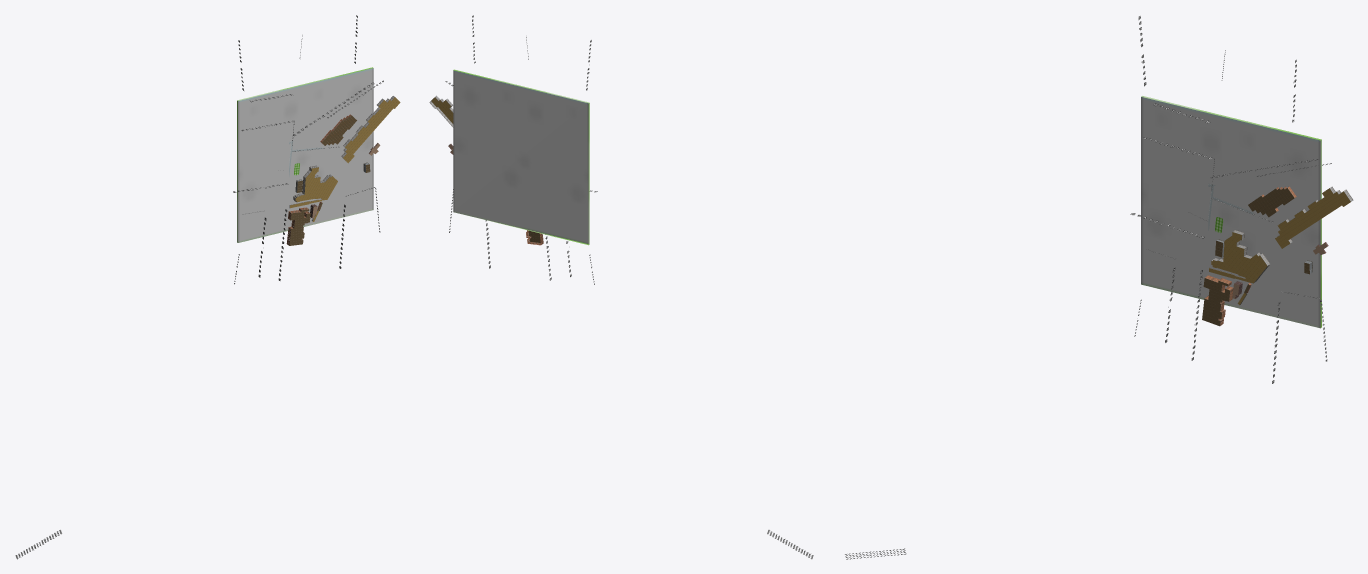
3 views of the same model, side by side, from view 1: azimuth 30°, elevation 25°; view 2: azimuth 150°, elevation 25°; view 3: azimuth 330°, elevation 25° (orthographic). The views are drawn at different scales.
Parts seen in each view (by area): view 1: POLYGON, BUILDING, FONT; view 2: POLYGON, BUILDING, FONT; view 3: POLYGON, BUILDING, FONT.
Boxes of the visible parts, x1,y1,x2,y2 form: POLYGON: (237, 67, 373, 242); BUILDING: (286, 96, 400, 245); FONT: (15, 15, 383, 559); POLYGON: (453, 69, 589, 245); BUILDING: (429, 95, 543, 245); FONT: (445, 15, 813, 559); POLYGON: (1141, 96, 1321, 328); BUILDING: (1202, 186, 1353, 326); FONT: (845, 16, 1331, 559).
Size of the model in its own units: 1730 by 2004 by 29.
Materials: 3 (3 with a texture image).
